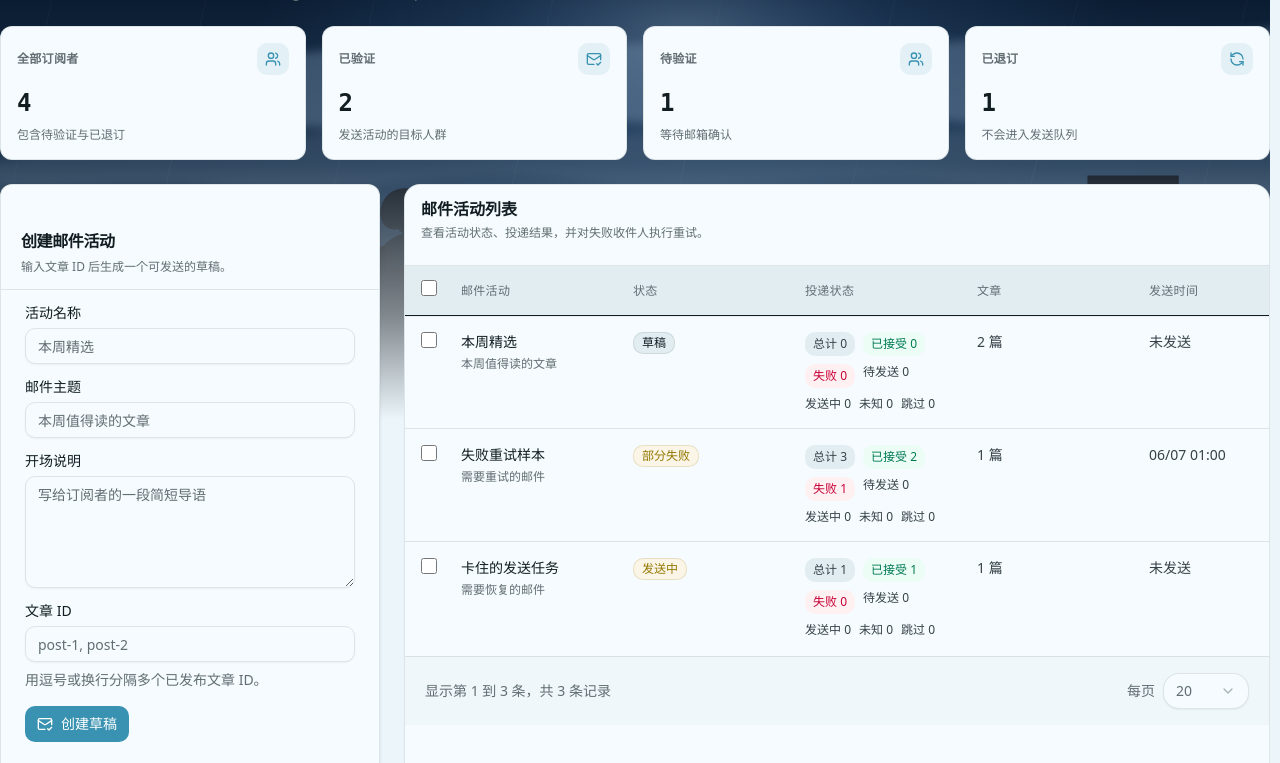
Test: admin newsletter page › shows Chinese field errors and does not submit invalid campaign form
The image size is (1280, 763).
(page scrolled)
Expected: the text "本周精选" is shown, [461,332,517,351]
Step 1. Click the button "创建草稿" → coordinates (77, 724), box [25,706,129,742]
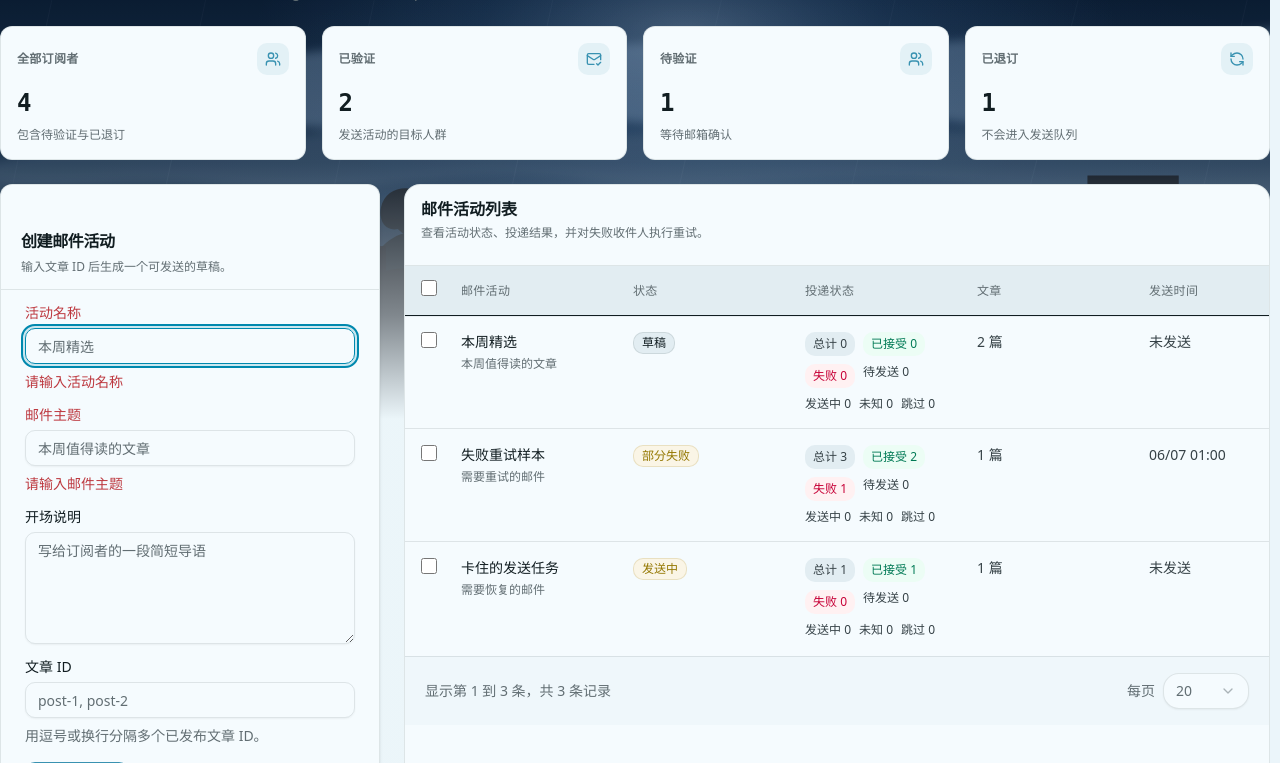
Expected: the text "请输入活动名称" is shown, [25,372,123,391]
Expected: the text "请输入邮件主题" is shown, [25,474,123,493]
